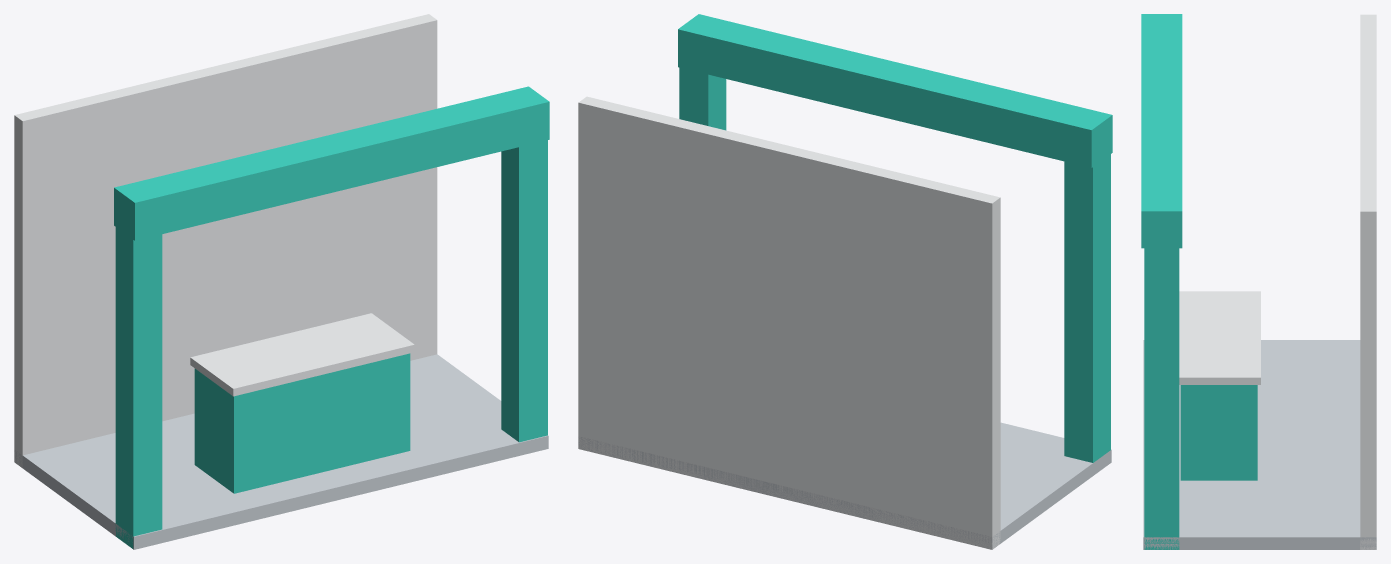
The picture shows the model from 3 angles, left to right: view 1: azimuth 30°, elevation 25°; view 2: azimuth 150°, elevation 25°; view 3: azimuth 270°, elevation 25°; orthographic projection. The views are drawn at different scales.
Visible parts, largest first — view 1: Exhibition Booth Concept; view 2: Exhibition Booth Concept; view 3: Exhibition Booth Concept.
Boxes of the visible parts, box(x1,y1,x2,y2) form: Exhibition Booth Concept: box(14, 14, 549, 549); Exhibition Booth Concept: box(578, 14, 1112, 549); Exhibition Booth Concept: box(1141, 14, 1376, 549).
Bounding box in the file's own units: 4 × 3.2 × 2.01.
